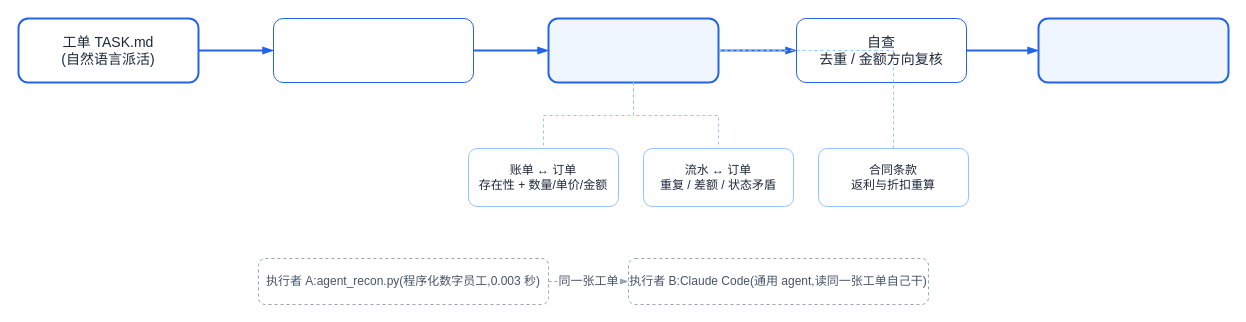
The diagram is 1246 pixels wide and 322 high, and some of its shapes have lost their labels. The shapes that lost their labels are listed below. From the top down, each one's box as (x1, y1, x2, y2) in pixels, then its label:
(272, 18, 474, 82): 读四张表 订单 / 账单 / 流水 / 合同
(547, 17, 719, 83): 三维核对
(1037, 17, 1229, 83): 对账报告 recon_report.md (摘要 + 逐笔差异 + 建议)
